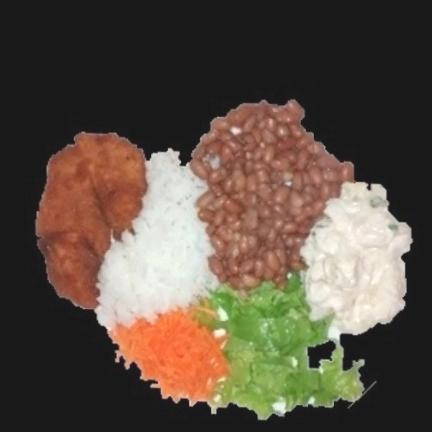beans: (191, 102, 354, 289)
carrot: (110, 310, 229, 403)
chicken: (37, 134, 147, 308)
rice: (98, 149, 218, 328)
salad: (199, 275, 363, 419)
